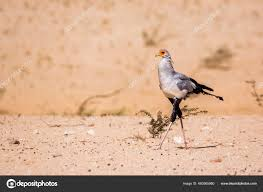Walking: (143, 42, 227, 158)
